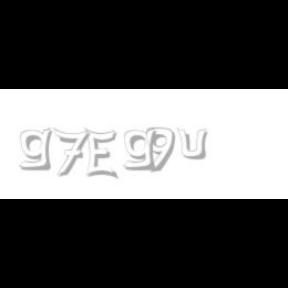7: (54, 128, 90, 178)
9: (146, 128, 176, 172)
E: (84, 128, 118, 180)
g: (124, 128, 161, 171), (20, 128, 56, 171)
u: (177, 128, 212, 160)
